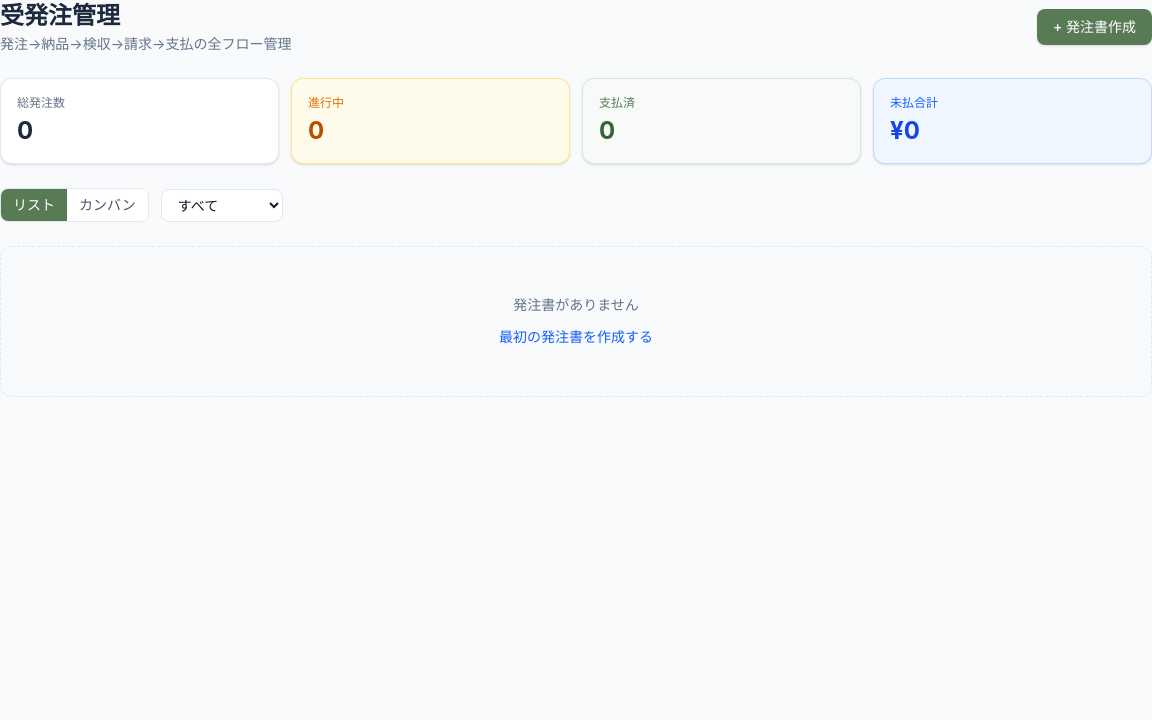
OrderManagementPage — ItemRow aria-labels › first ItemRow controls have aria-labels
Click the button "+ 発注書作成". click: x=1094, y=27
box: [1037,9,1151,45]
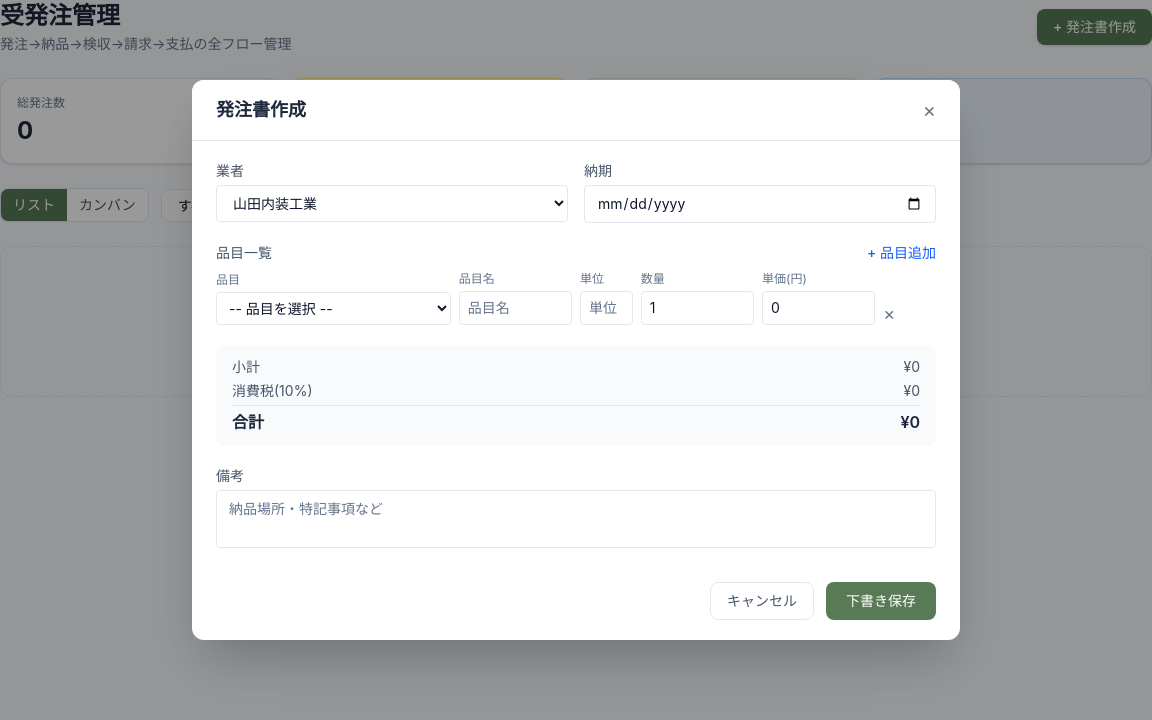
Check: the heading "発注書作成" is shown, box [216,96,306,124]
Check: the dropdown named "品目1 — 品目選択" is shown, box [216,292,451,325]
Check: the number field named "品目1 — 数量" is shown, box [641,291,754,325]
